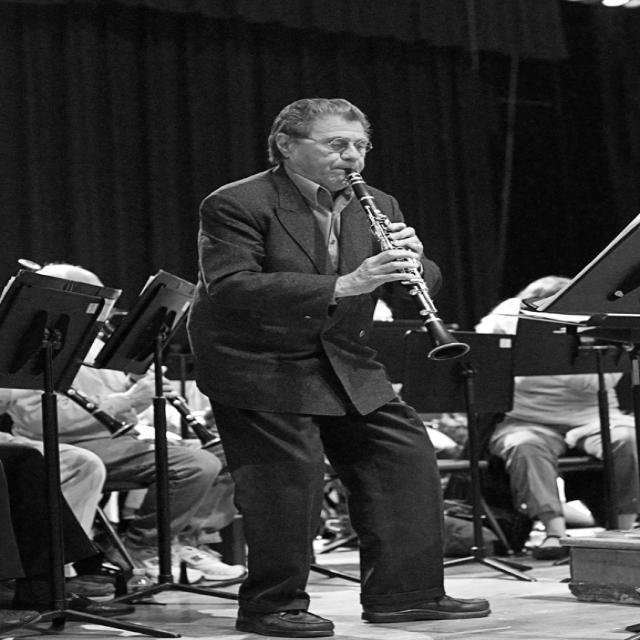clarinet: (340, 166, 476, 364), (149, 366, 223, 452), (57, 385, 139, 442)
